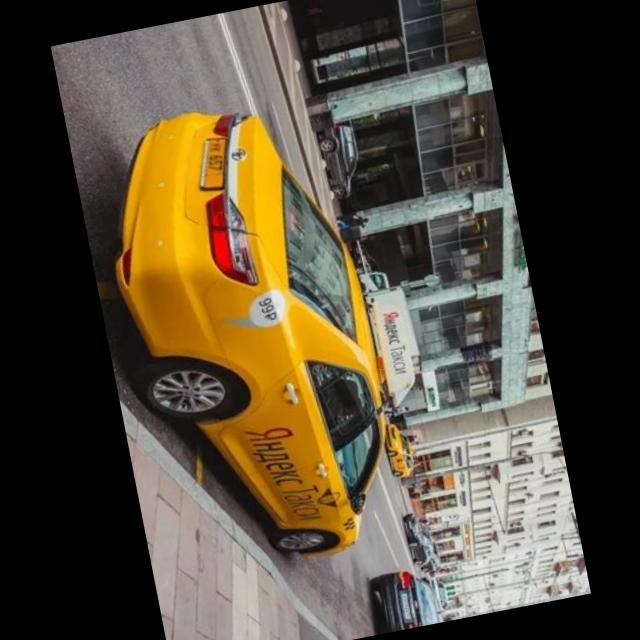taxi: (84, 78, 453, 588), (383, 422, 419, 482)
